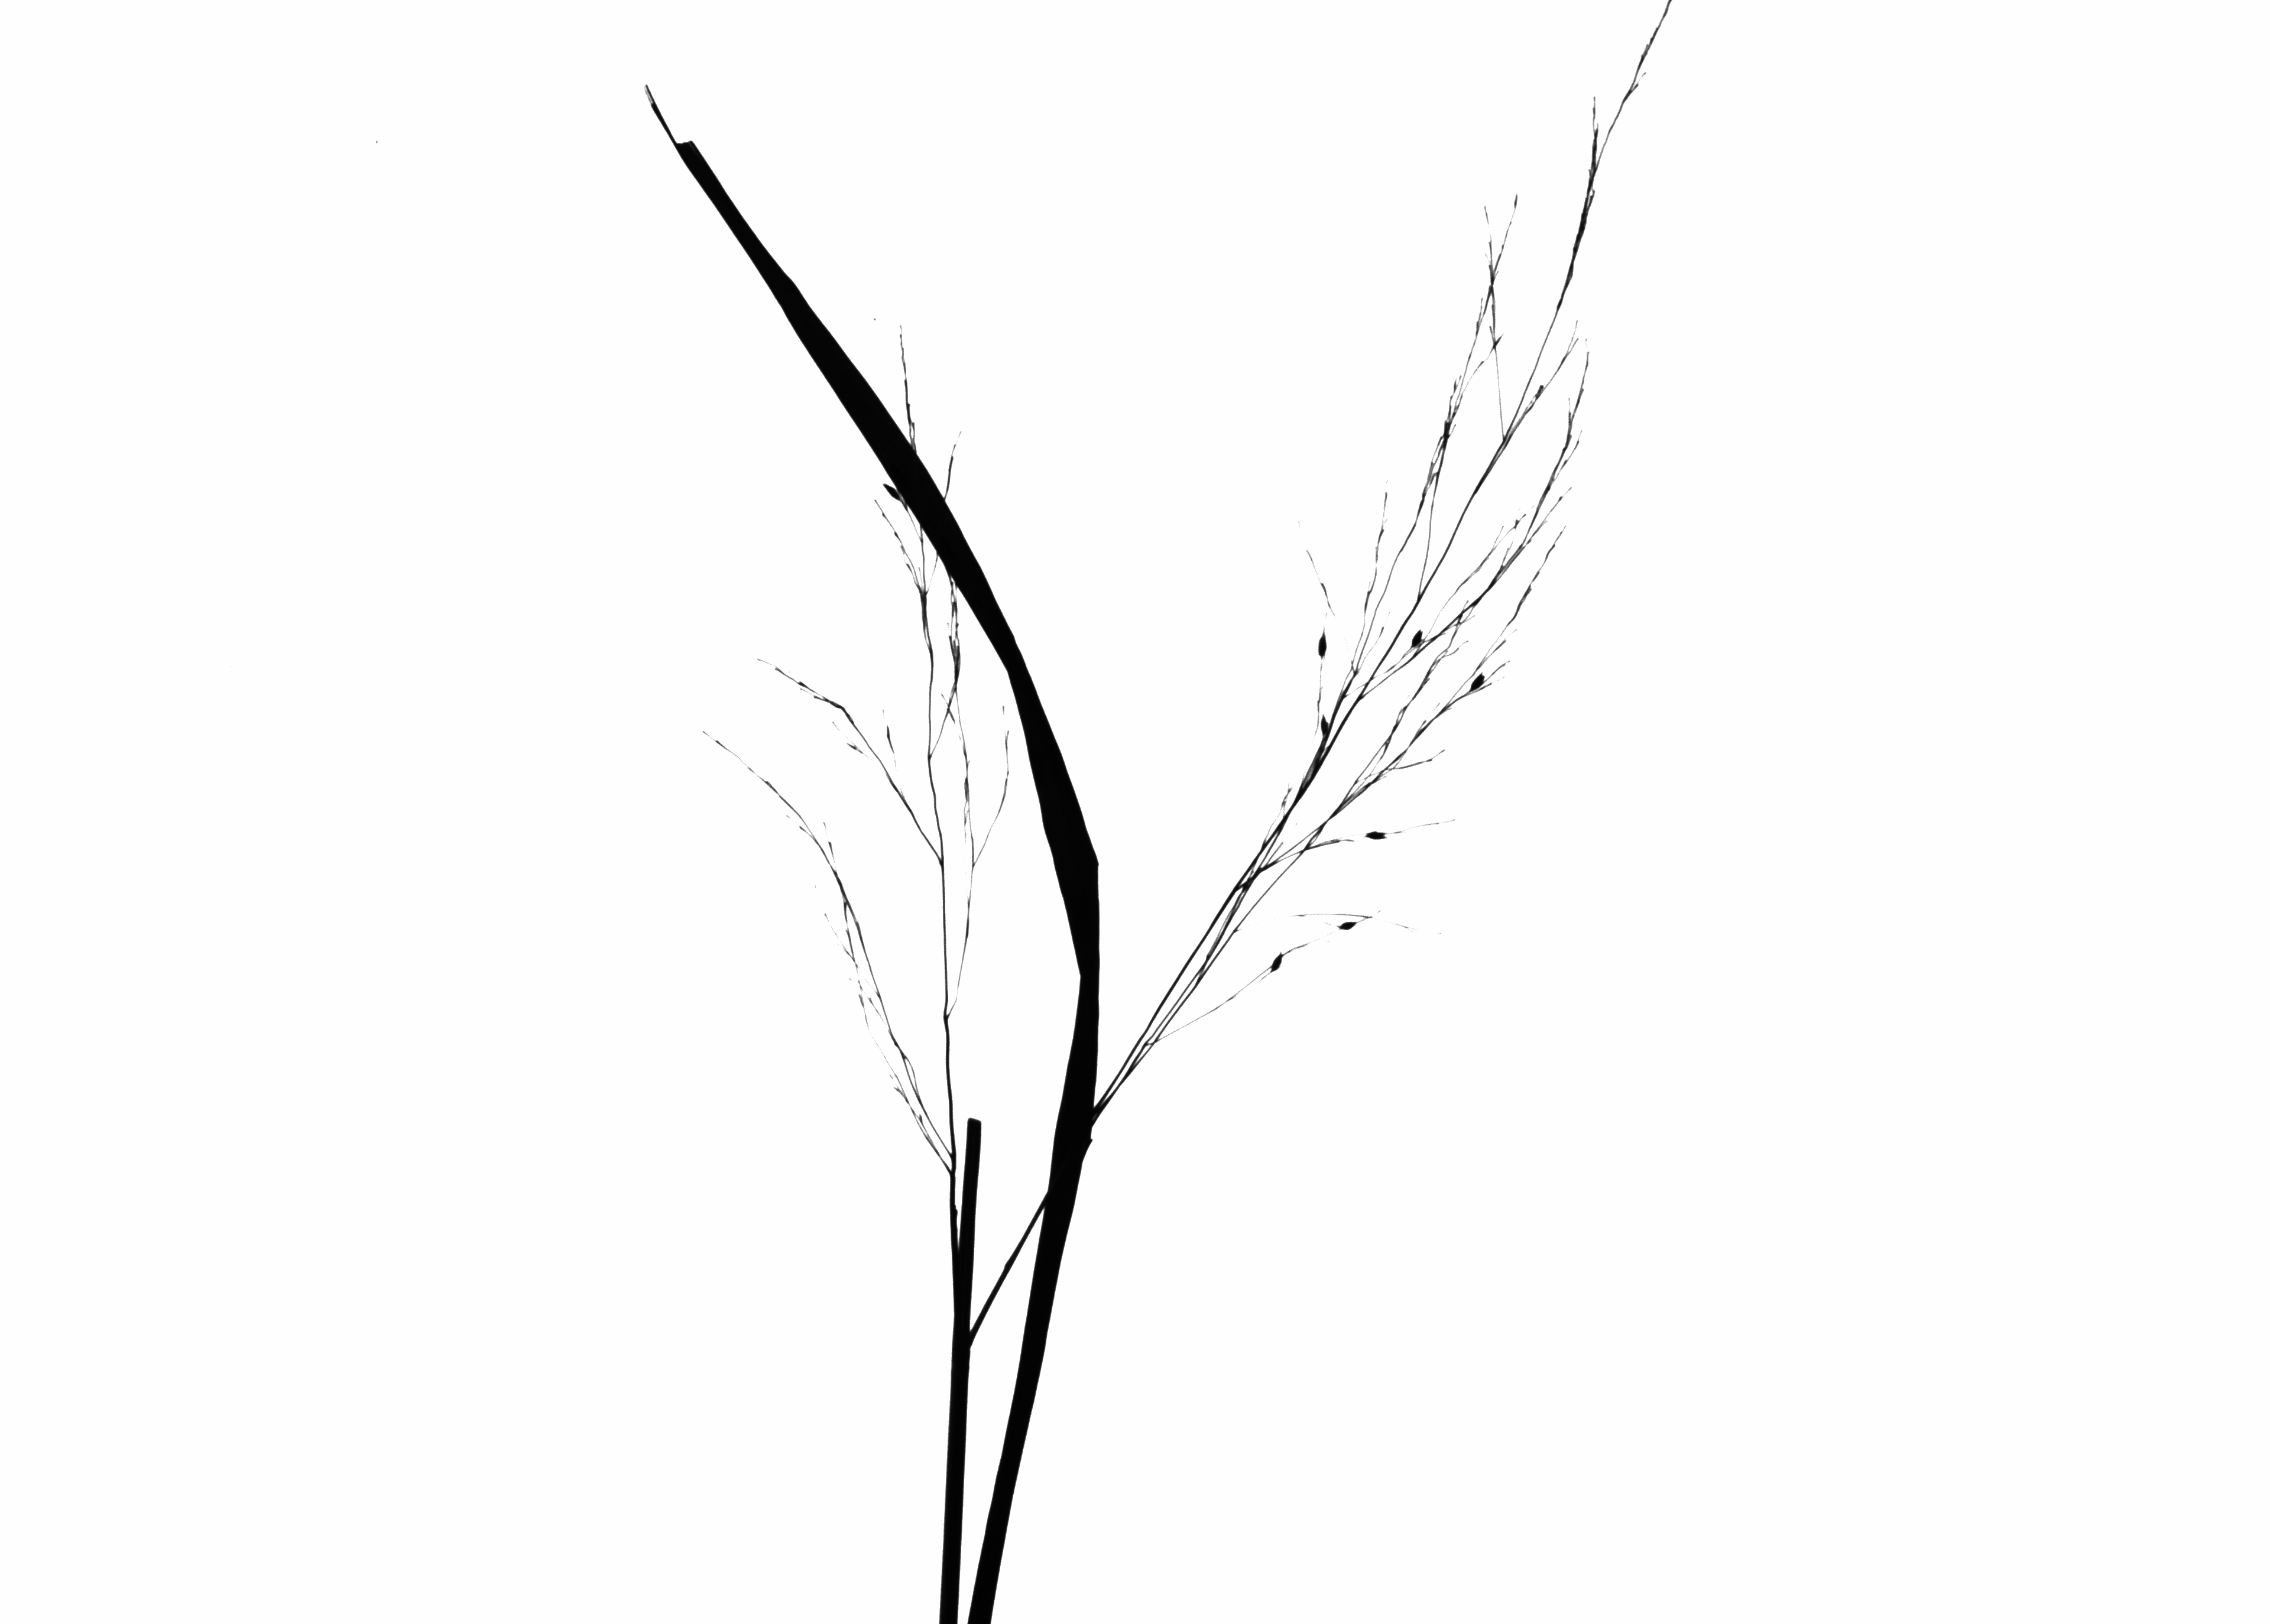seed: (1310, 626, 1333, 666), (879, 480, 907, 511), (1313, 710, 1338, 743), (1466, 668, 1489, 700), (1405, 622, 1428, 654), (1268, 942, 1285, 982), (1331, 912, 1359, 937), (1361, 824, 1391, 847)
